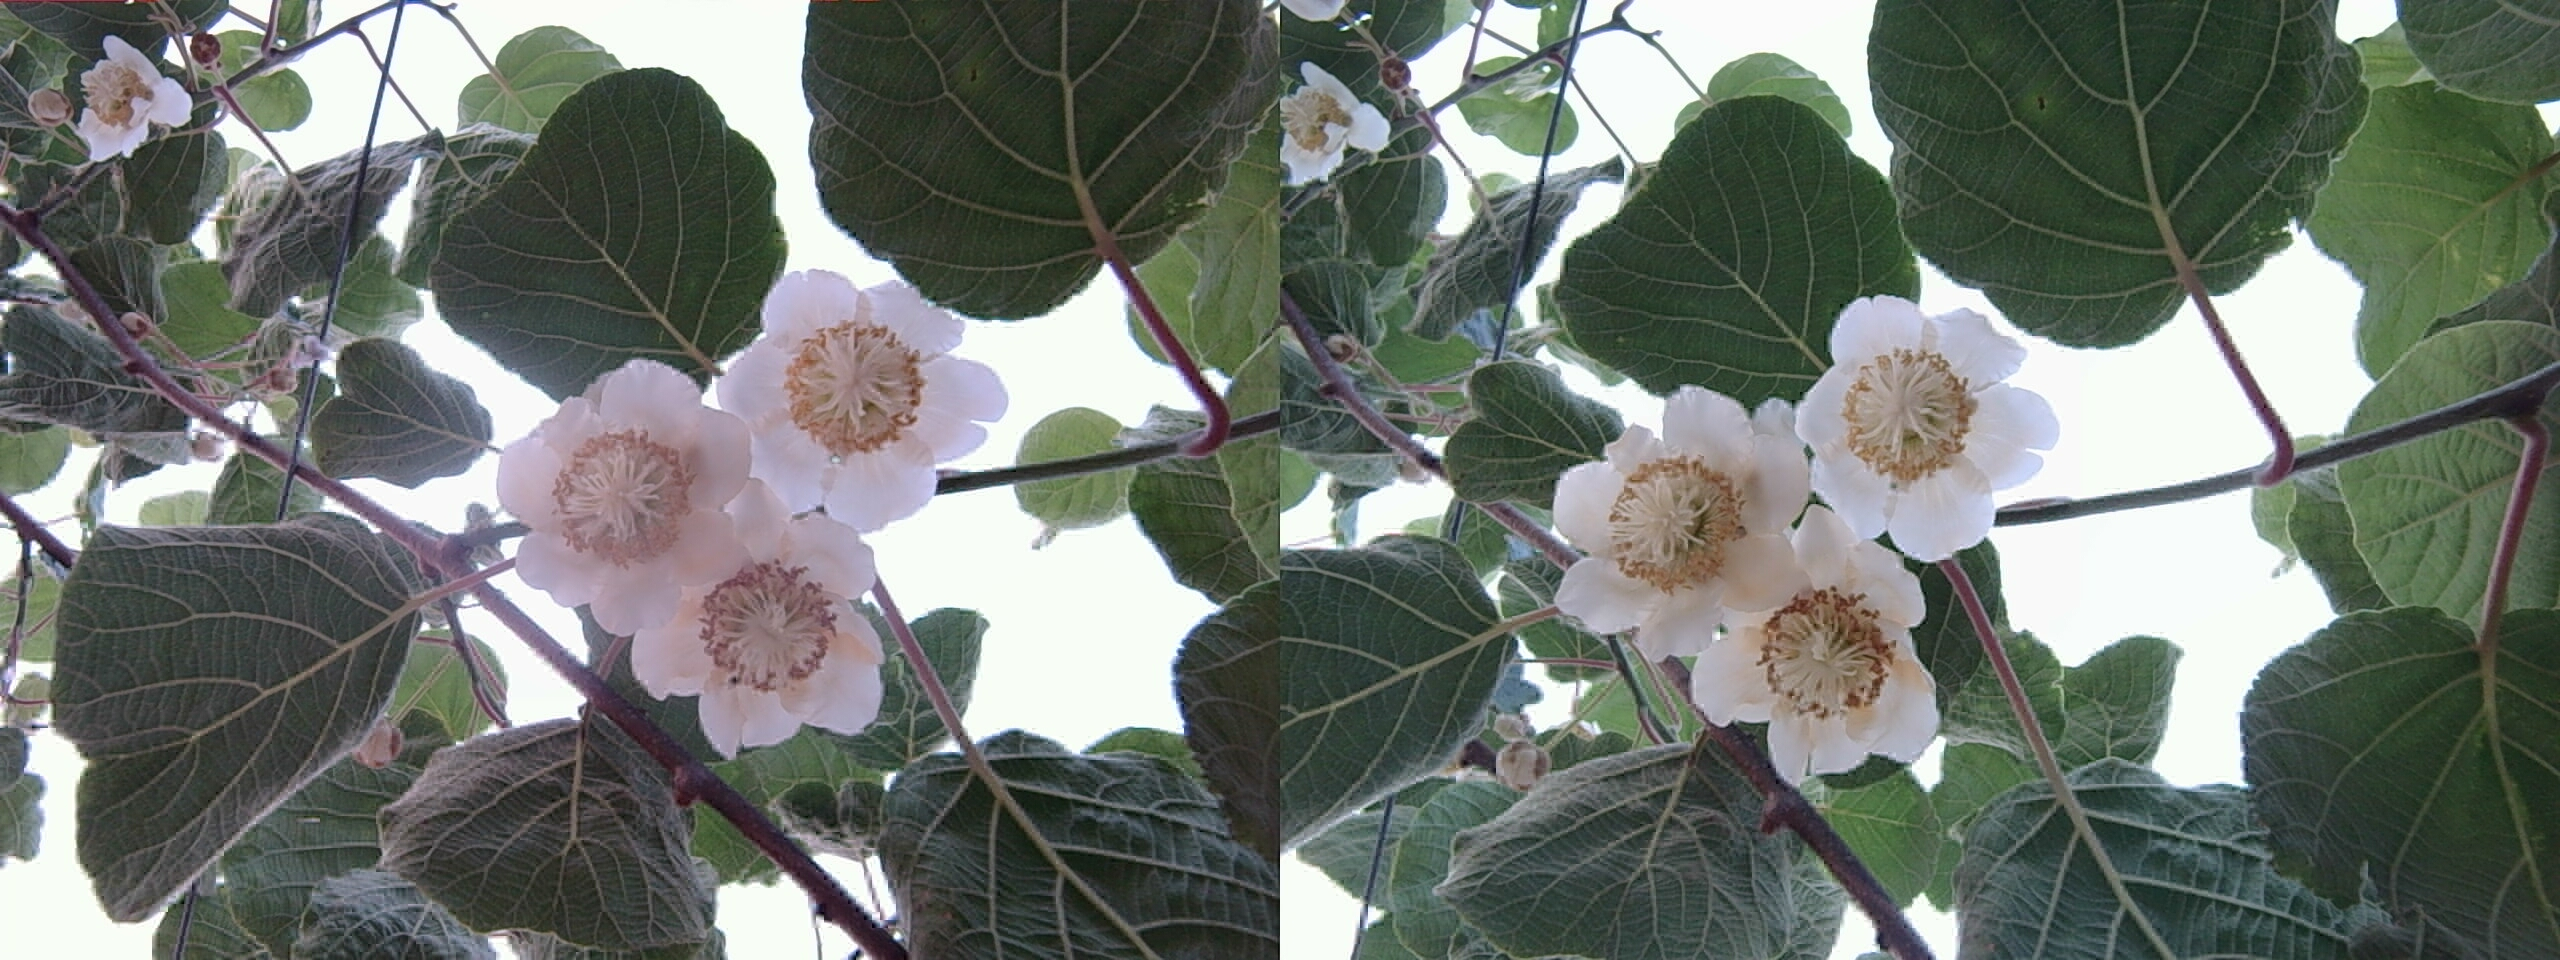flower: (705, 260, 996, 521), (1793, 273, 2047, 553), (495, 359, 758, 627), (1553, 390, 1799, 650), (625, 503, 890, 741), (1690, 532, 1938, 772)
